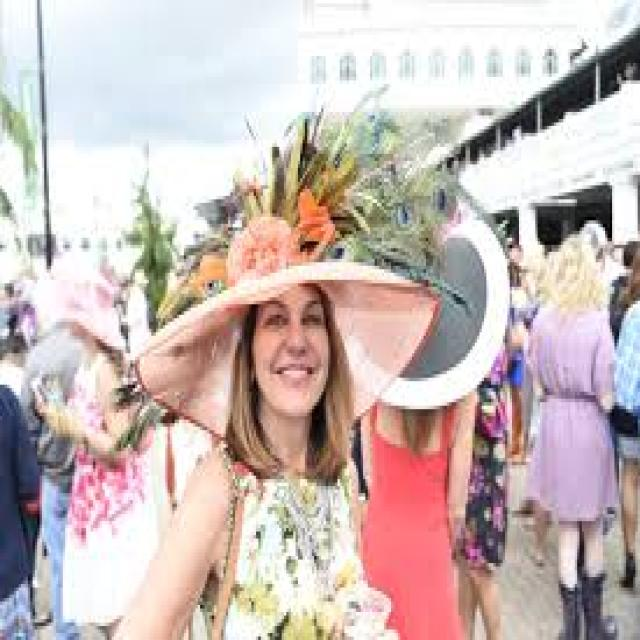hat: (140, 213, 435, 441)
